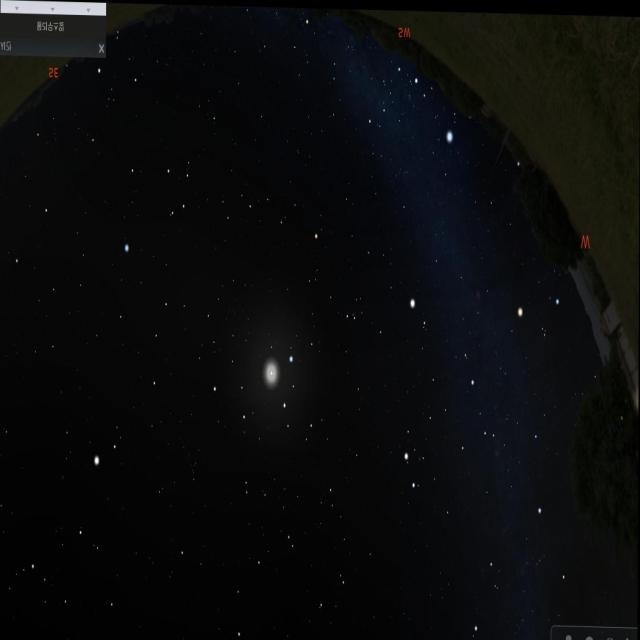bootes: (47, 439, 130, 640)
canis_minor: (401, 283, 433, 336)
gemini: (403, 357, 503, 506)
leo: (203, 327, 322, 458)
moon: (258, 341, 290, 402)
